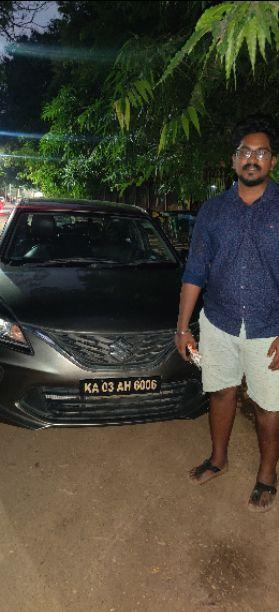license_plate: (78, 374, 162, 396)
